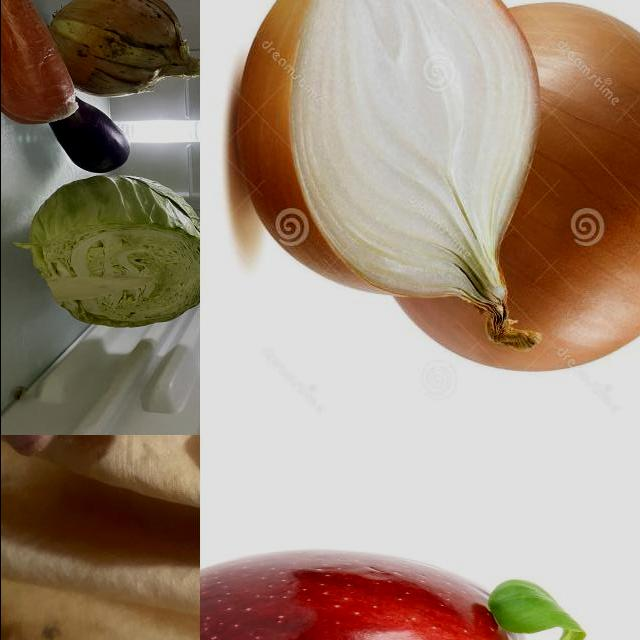cabbage: (25, 175, 200, 329)
carrot: (1, 1, 80, 123)
eggplant: (40, 99, 133, 175)
onion: (361, 3, 640, 374), (231, 1, 544, 324), (50, 1, 200, 99)
